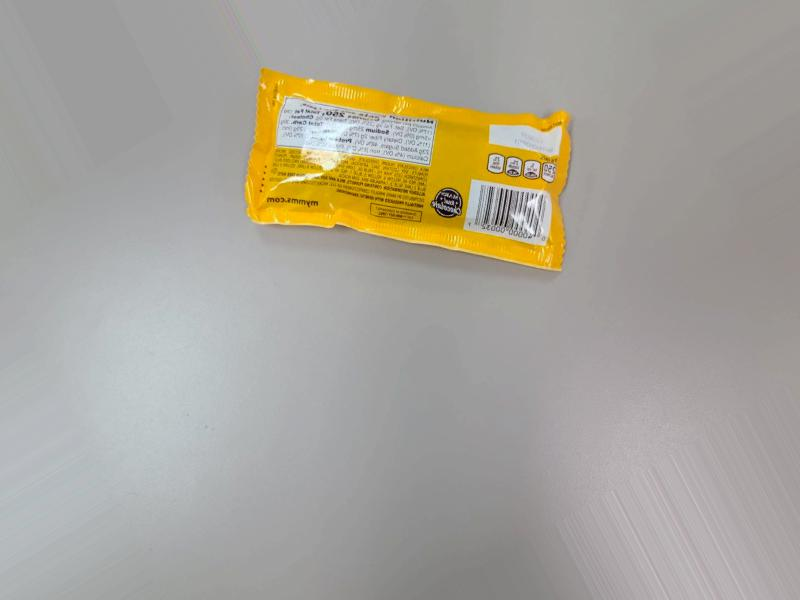m&m: (204, 59, 572, 271)
